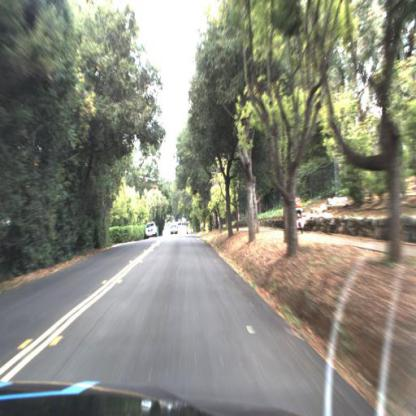biker: (292, 194, 307, 234)
car: (142, 215, 157, 235)
